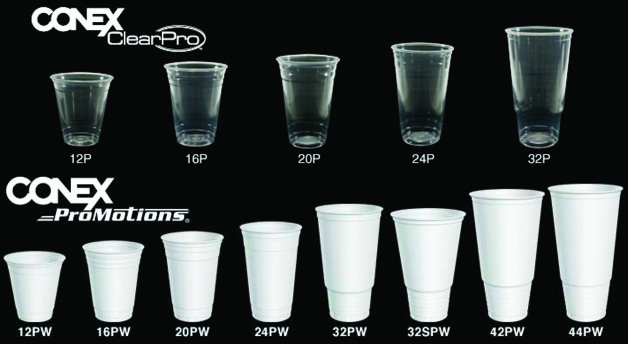plastic_glass: (546, 178, 626, 326), (467, 185, 547, 325), (500, 21, 579, 152), (385, 204, 468, 325), (311, 201, 384, 325), (271, 47, 342, 154), (387, 41, 455, 150), (236, 220, 304, 324), (156, 58, 232, 150), (155, 228, 226, 326), (76, 238, 150, 325), (43, 68, 118, 150), (1, 245, 68, 325)
